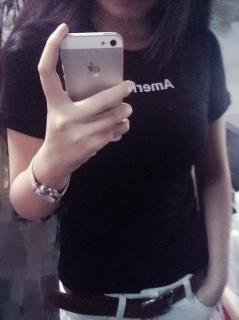short sleeve top: (0, 6, 231, 294)
